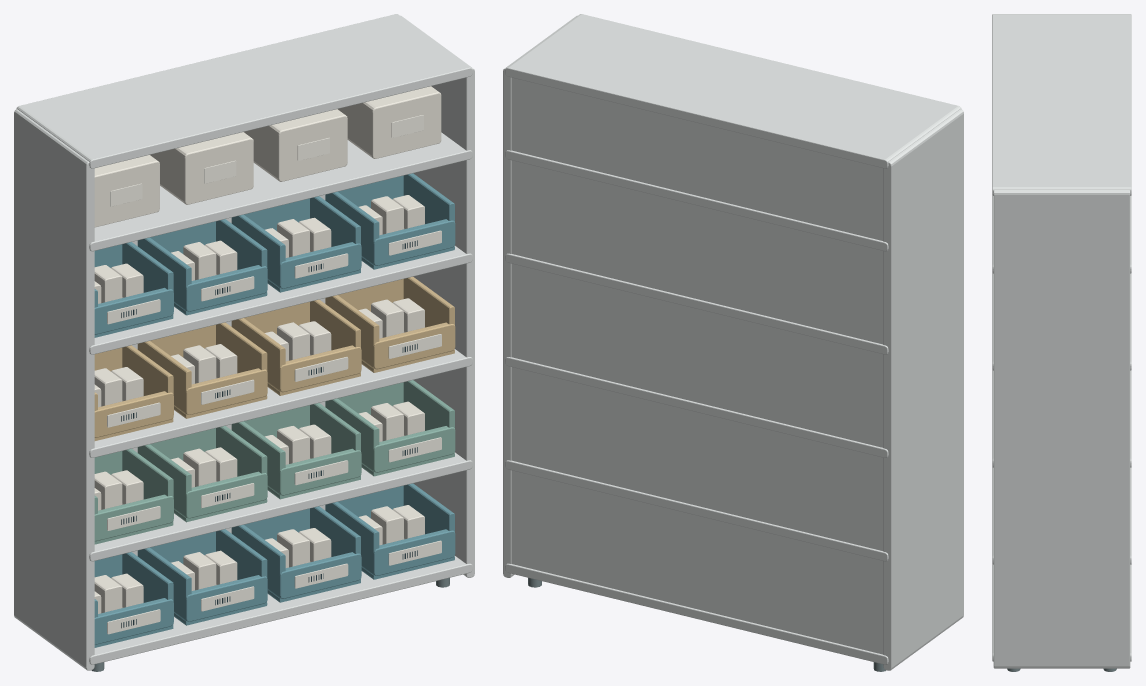
Rendered from supply-cabinet.glb.
The picture shows the model from 3 angles, left to right: view 1: azimuth 30°, elevation 25°; view 2: azimuth 150°, elevation 25°; view 3: azimuth 270°, elevation 25°; orthographic projection. The views are drawn at different scales.
Visible parts, largest first — view 1: supply-cabinet-batch (×3), label-holder (×16), bin-r2-c2-batch (×2), bin-r3-c2-batch (×2), bin-r4-c2-batch (×2), bin-r1-c2-batch (×2), bin-r4-c3-batch (×2), bin-r2-c3-batch (×2), bin-r1-c3-batch (×2), bin-r3-c3-batch (×2), bin-r1-c4-batch (×2), bin-r3-c4-batch (×2) (+6 smaller); view 2: supply-cabinet-batch; view 3: supply-cabinet-batch.
Part boxes in pixels (bbox=[...]): supply-cabinet-batch (×3): bbox=[14, 14, 474, 670]; label-holder (×16): bbox=[107, 230, 441, 634]; bin-r2-c2-batch (×2): bbox=[137, 426, 267, 522]; bin-r3-c2-batch (×2): bbox=[137, 322, 267, 418]; bin-r4-c2-batch (×2): bbox=[137, 219, 267, 315]; bin-r1-c2-batch (×2): bbox=[137, 529, 267, 625]; bin-r4-c3-batch (×2): bbox=[231, 196, 361, 292]; bin-r2-c3-batch (×2): bbox=[231, 403, 361, 499]; bin-r1-c3-batch (×2): bbox=[231, 506, 361, 602]; bin-r3-c3-batch (×2): bbox=[231, 299, 361, 395]; bin-r1-c4-batch (×2): bbox=[325, 483, 455, 579]; bin-r3-c4-batch (×2): bbox=[325, 276, 455, 372]; supply-cabinet-batch: bbox=[503, 14, 963, 670]; supply-cabinet-batch: bbox=[992, 14, 1131, 668].
Bounding box in the file's own units: 1.58 × 2.02 × 0.52.
